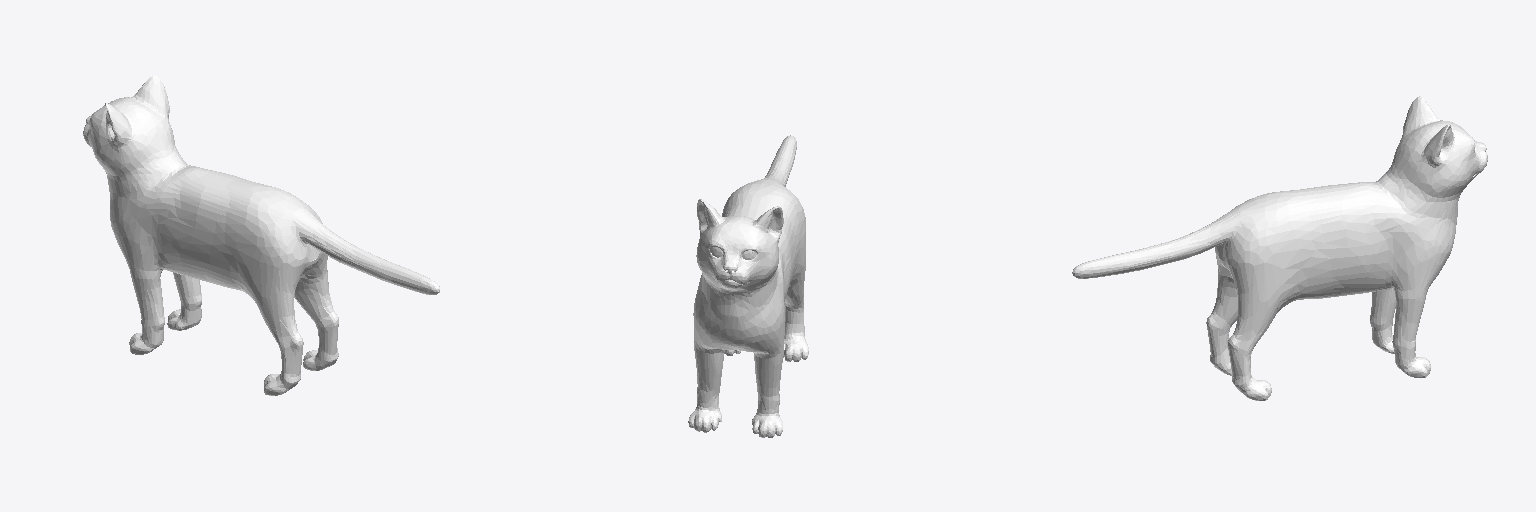
File: cat.obj
3 renders of one model, left to right at view 1: azimuth 30°, elevation 25°; view 2: azimuth 150°, elevation 25°; view 3: azimuth 270°, elevation 25°, orthographic.
Parts seen in each view (by area): view 1: 12221_Cat_v1_l3; view 2: 12221_Cat_v1_l3; view 3: 12221_Cat_v1_l3.
Part boxes in pixels (left/top/right/bottom): 12221_Cat_v1_l3: left=83, top=76, right=439, bottom=395; 12221_Cat_v1_l3: left=688, top=135, right=808, bottom=437; 12221_Cat_v1_l3: left=1072, top=96, right=1487, bottom=400.
Size of the model in its own units: 0.1677 by 0.2392 by 0.3666.